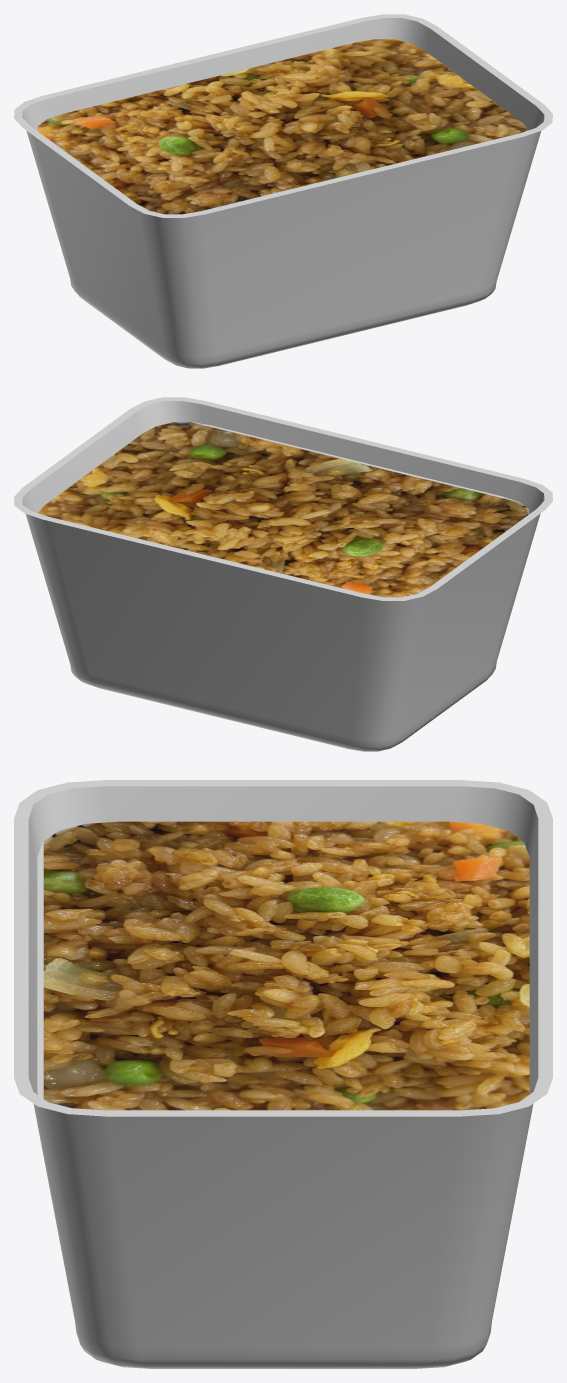
Rendered from zsjrmzcf.FBX.
3 views of the same model, one above another, from view 1: azimuth 30°, elevation 25°; view 2: azimuth 150°, elevation 25°; view 3: azimuth 270°, elevation 25° (orthographic). The views are drawn at different scales.
Parts seen in each view (by area): view 1: Box001; view 2: Box001; view 3: Box001.
Part boxes in pixels (x1,y1,x2,y2): Box001: (14, 14, 552, 368); Box001: (14, 397, 552, 751); Box001: (14, 780, 552, 1368).
Bounding box in the file's own units: 0.1169 × 0.0478 × 0.0791.
